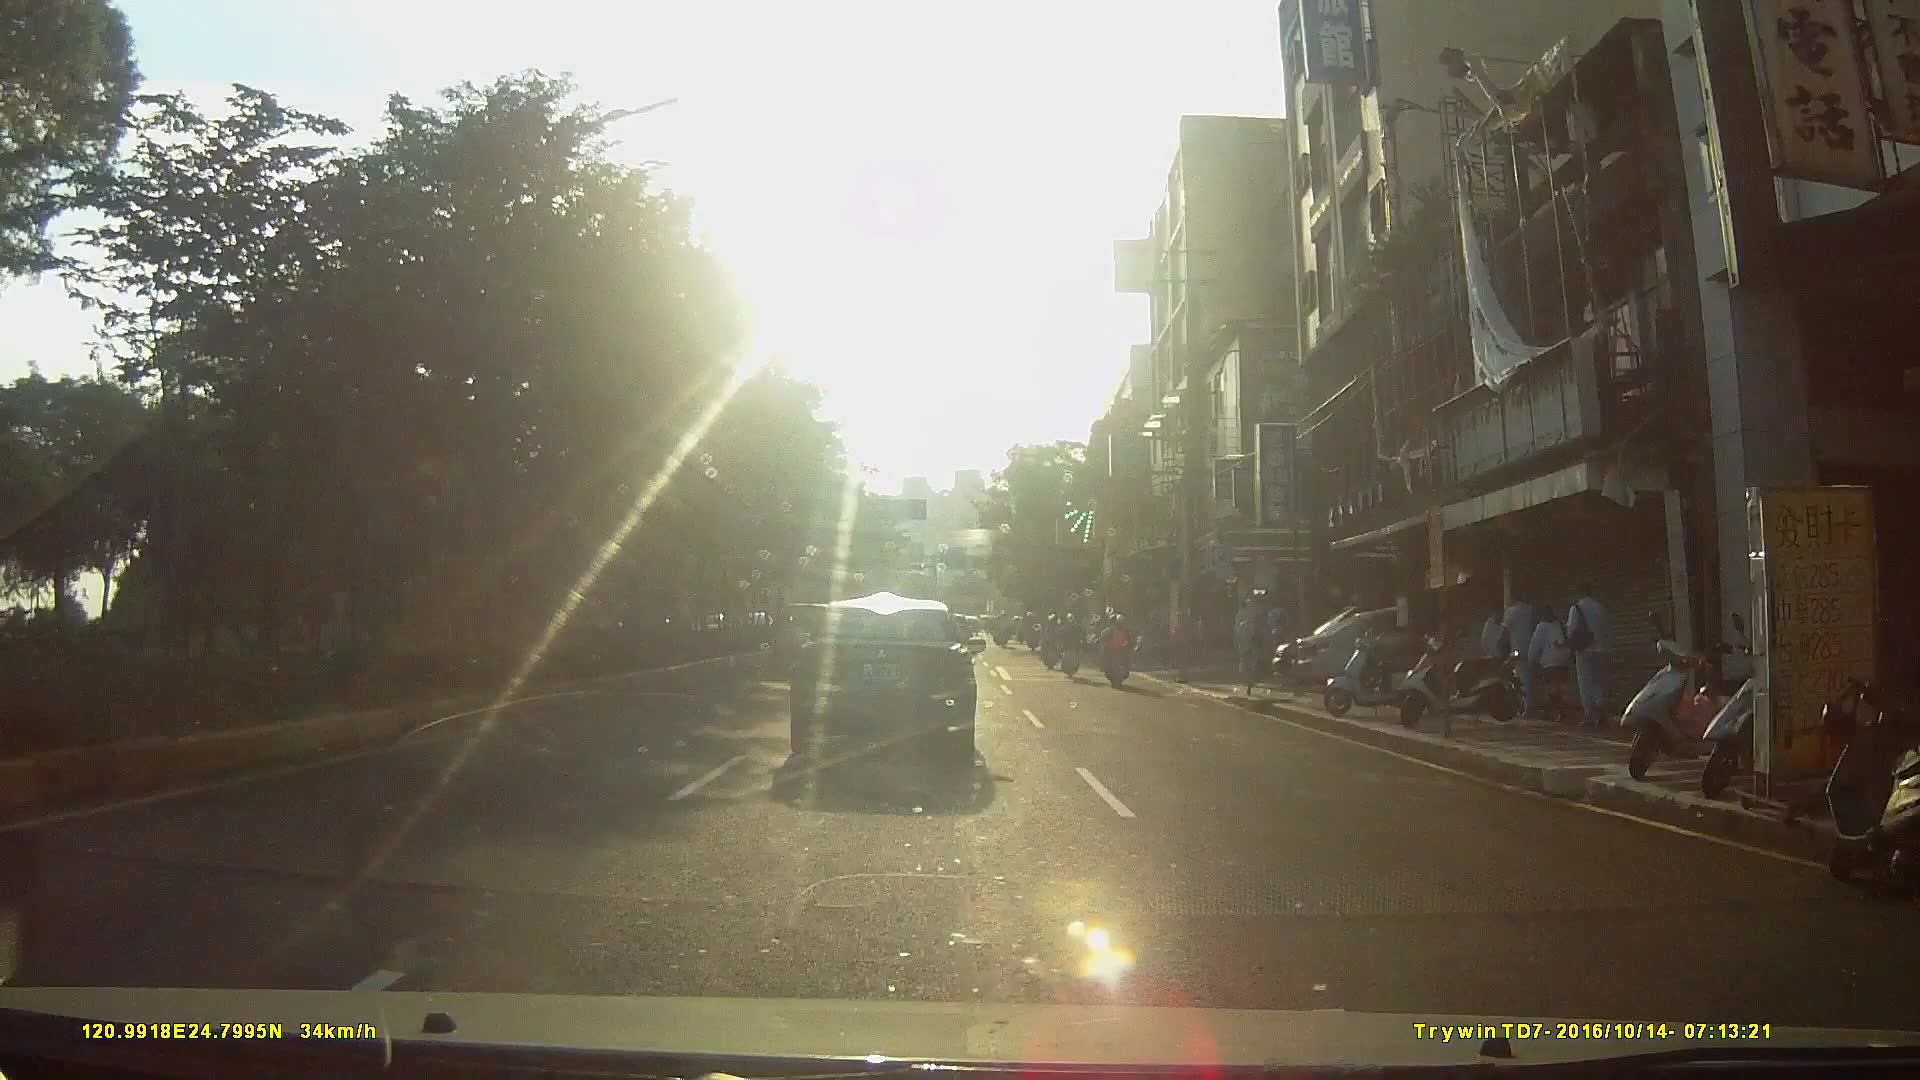pedestrian: (1561, 576, 1610, 725), (1525, 600, 1579, 718), (1497, 581, 1540, 708)
rider: (1103, 614, 1138, 694), (1057, 613, 1086, 680), (1040, 615, 1063, 673)
vehicle: (785, 598, 999, 786), (1294, 592, 1548, 699)
